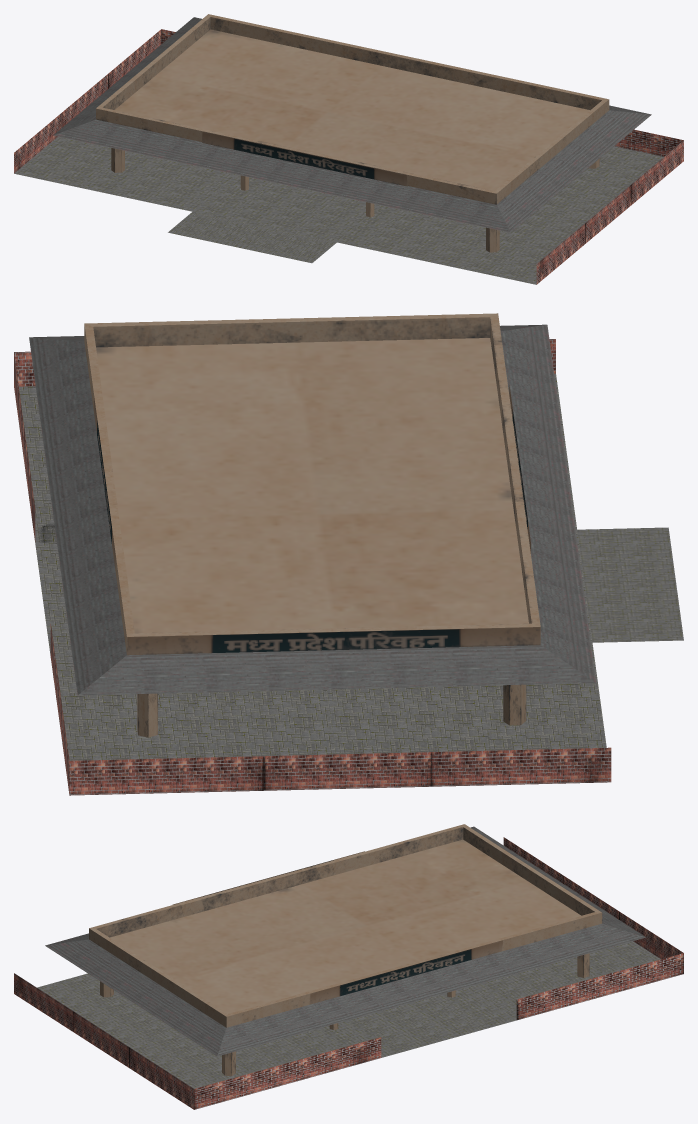
Rendered from Bus Stand 1.fbx.
The picture shows the model from 3 angles, top to bottom: view 1: azimuth 30°, elevation 25°; view 2: azimuth 150°, elevation 25°; view 3: azimuth 270°, elevation 25°; orthographic projection. The views are drawn at different scales.
Visible parts, largest first — view 1: Bus Station, Bus Base; view 2: Bus Station, Bus Base; view 3: Bus Station, Bus Base.
Part boxes in pixels (box(x1,y1,x2,y2)): Bus Station: box(53, 14, 651, 252); Bus Base: box(14, 29, 683, 284); Bus Station: box(29, 313, 595, 737); Bus Base: box(14, 339, 683, 795); Bus Station: box(45, 824, 645, 1075); Bus Base: box(14, 837, 683, 1109).
Bounding box in the file's own units: 7950 × 948 × 8936.
Materials: 2 (2 with a texture image).
